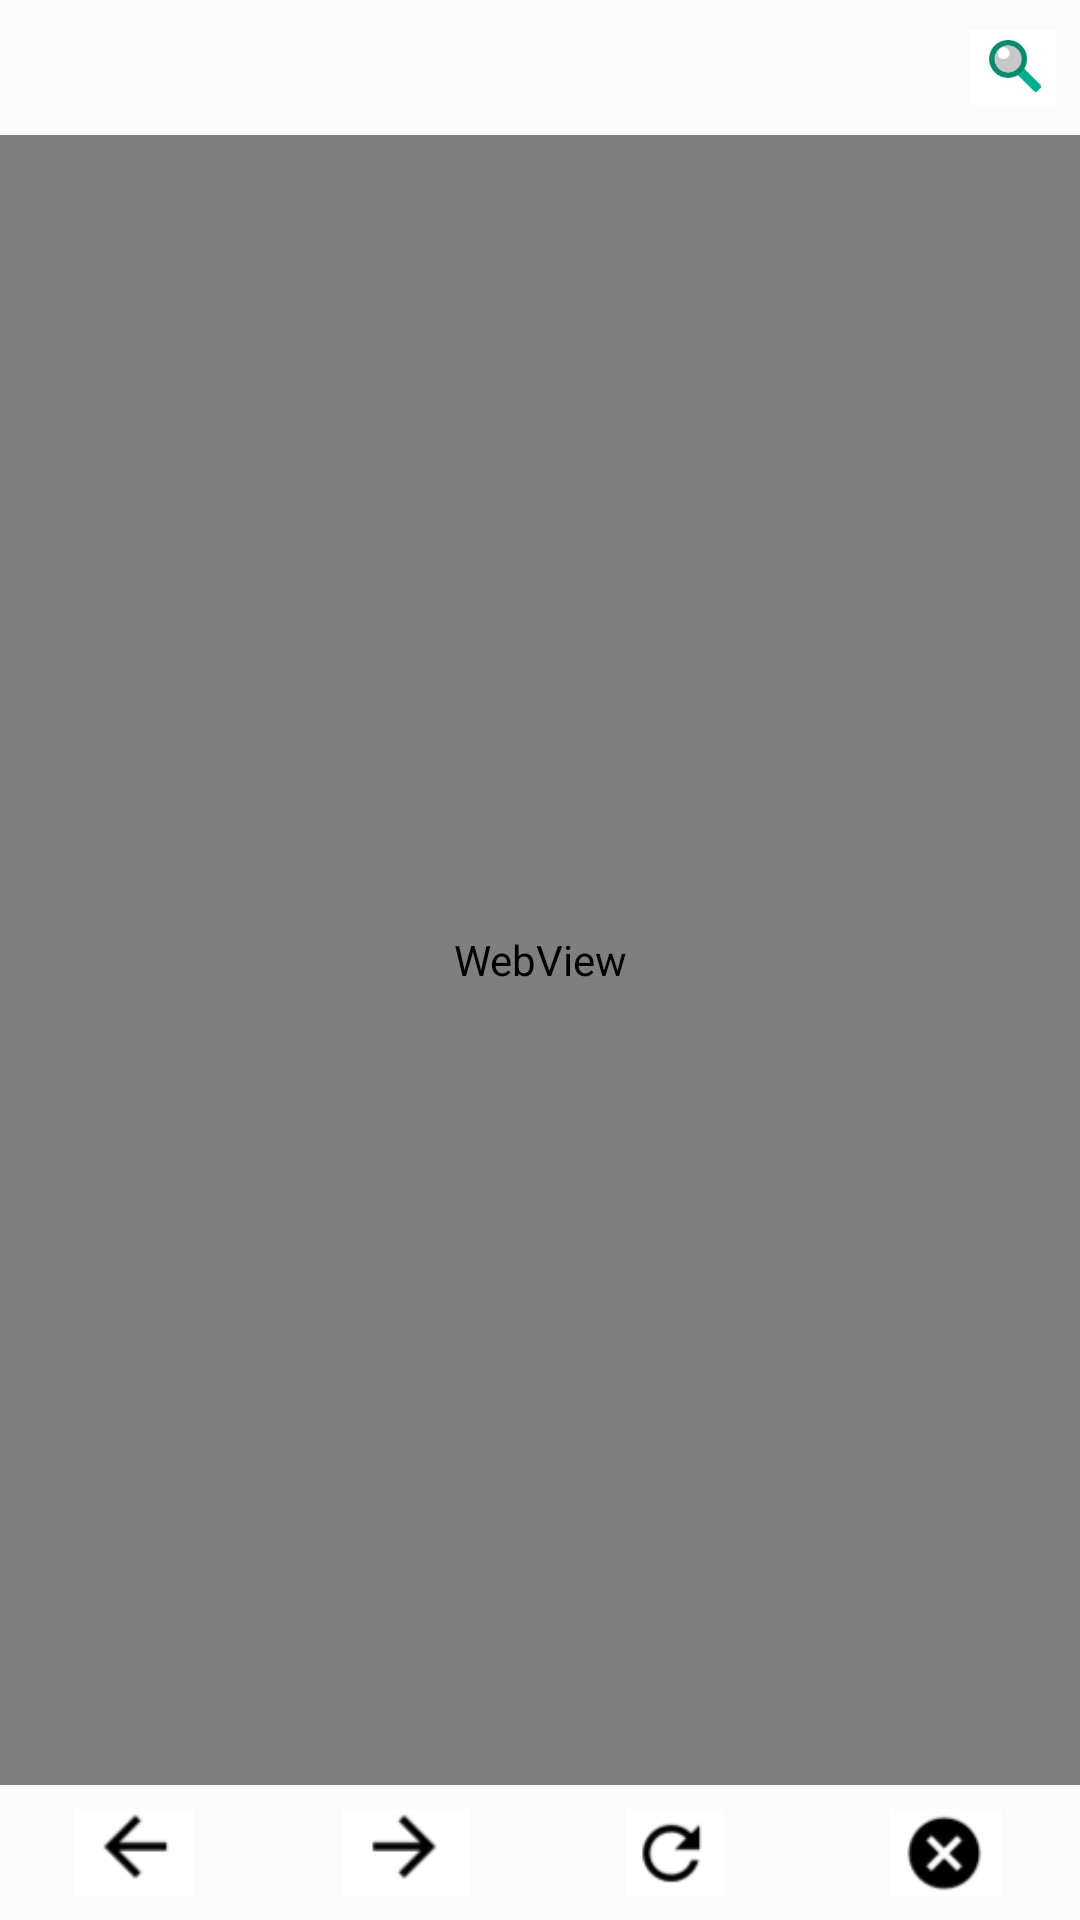

Named icons in this screenshot (1080*1920) and their bounding boxes, (x1, y1, x2, y2):
web back: (103, 1815, 168, 1879)
web close: (907, 1816, 981, 1890)
web forward: (372, 1815, 436, 1879)
web refresh: (642, 1823, 701, 1883)
